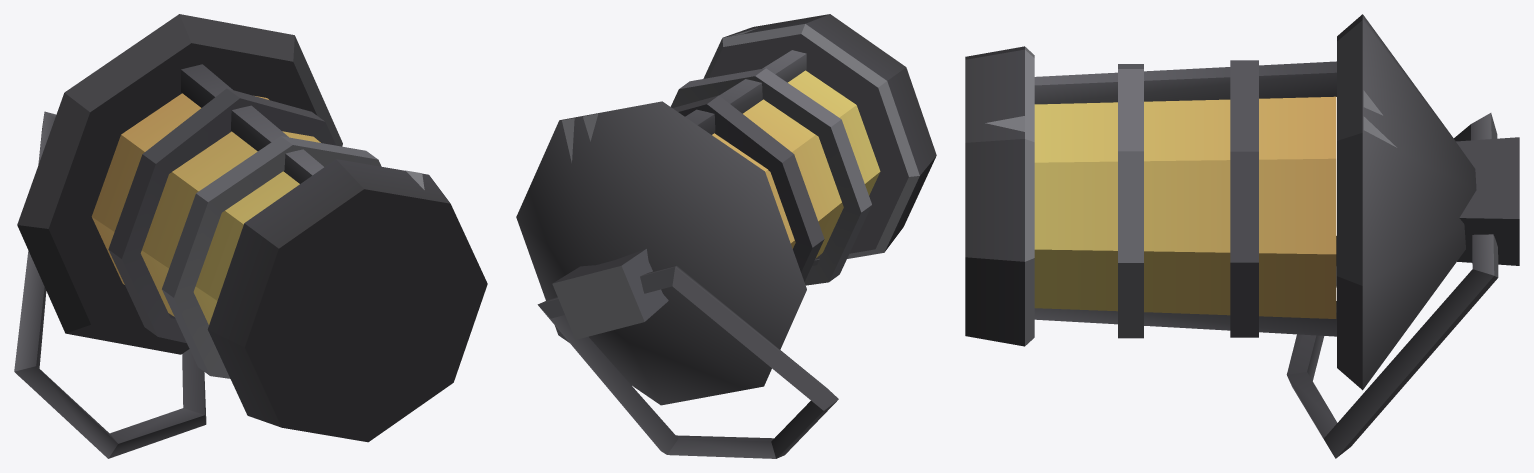
The model's file is Lantern.fbx.
The picture shows the model from 3 angles, left to right: view 1: azimuth 30°, elevation 25°; view 2: azimuth 150°, elevation 25°; view 3: azimuth 270°, elevation 25°; orthographic projection. The views are drawn at different scales.
Visible parts, largest first — view 1: PirateLantern; view 2: PirateLantern; view 3: PirateLantern.
Boxes of the visible parts, x1=… form: PirateLantern: x1=14, y1=14, x2=487, y2=458; PirateLantern: x1=516, y1=14, x2=936, y2=458; PirateLantern: x1=965, y1=14, x2=1519, y2=458.
Size of the model in its own units: 35.28 by 39.52 by 46.02.
